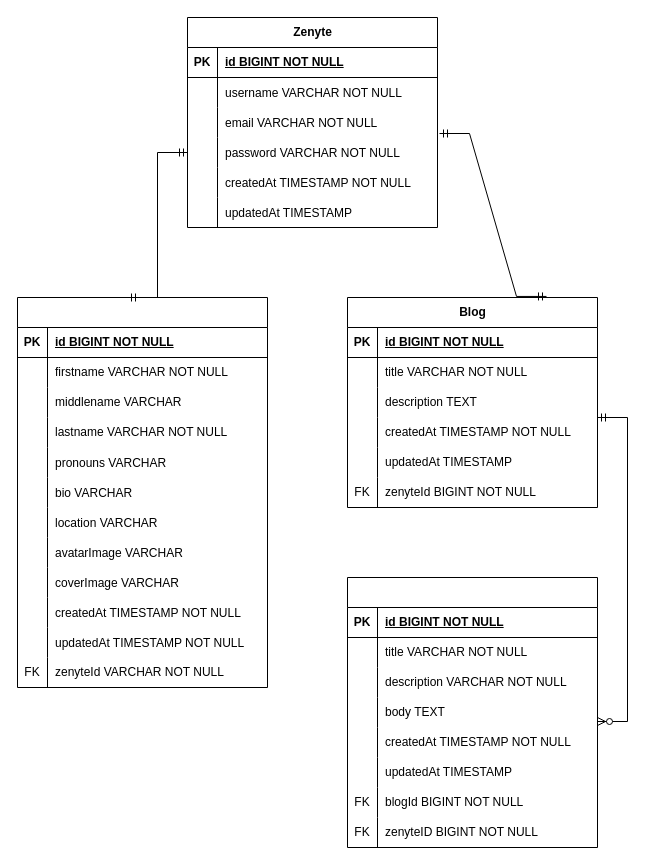
This 654x865 diagram has some shape labels left out. Each missing label, with the box of its shape:
Article: (346, 576, 598, 848)
Profile: (16, 296, 268, 688)
